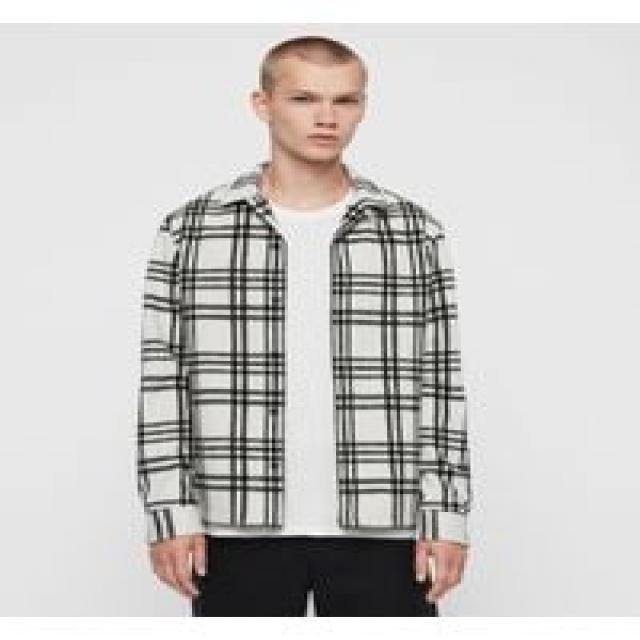plaid: (112, 162, 523, 557)
